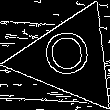O_S: (43, 31, 96, 86)
